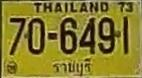0: (26, 18, 44, 54)
1: (122, 15, 128, 54)
4: (79, 17, 94, 53)
6: (60, 17, 76, 54)
7: (9, 17, 25, 54)
9: (97, 16, 116, 53)
RBR: (49, 56, 94, 78)
